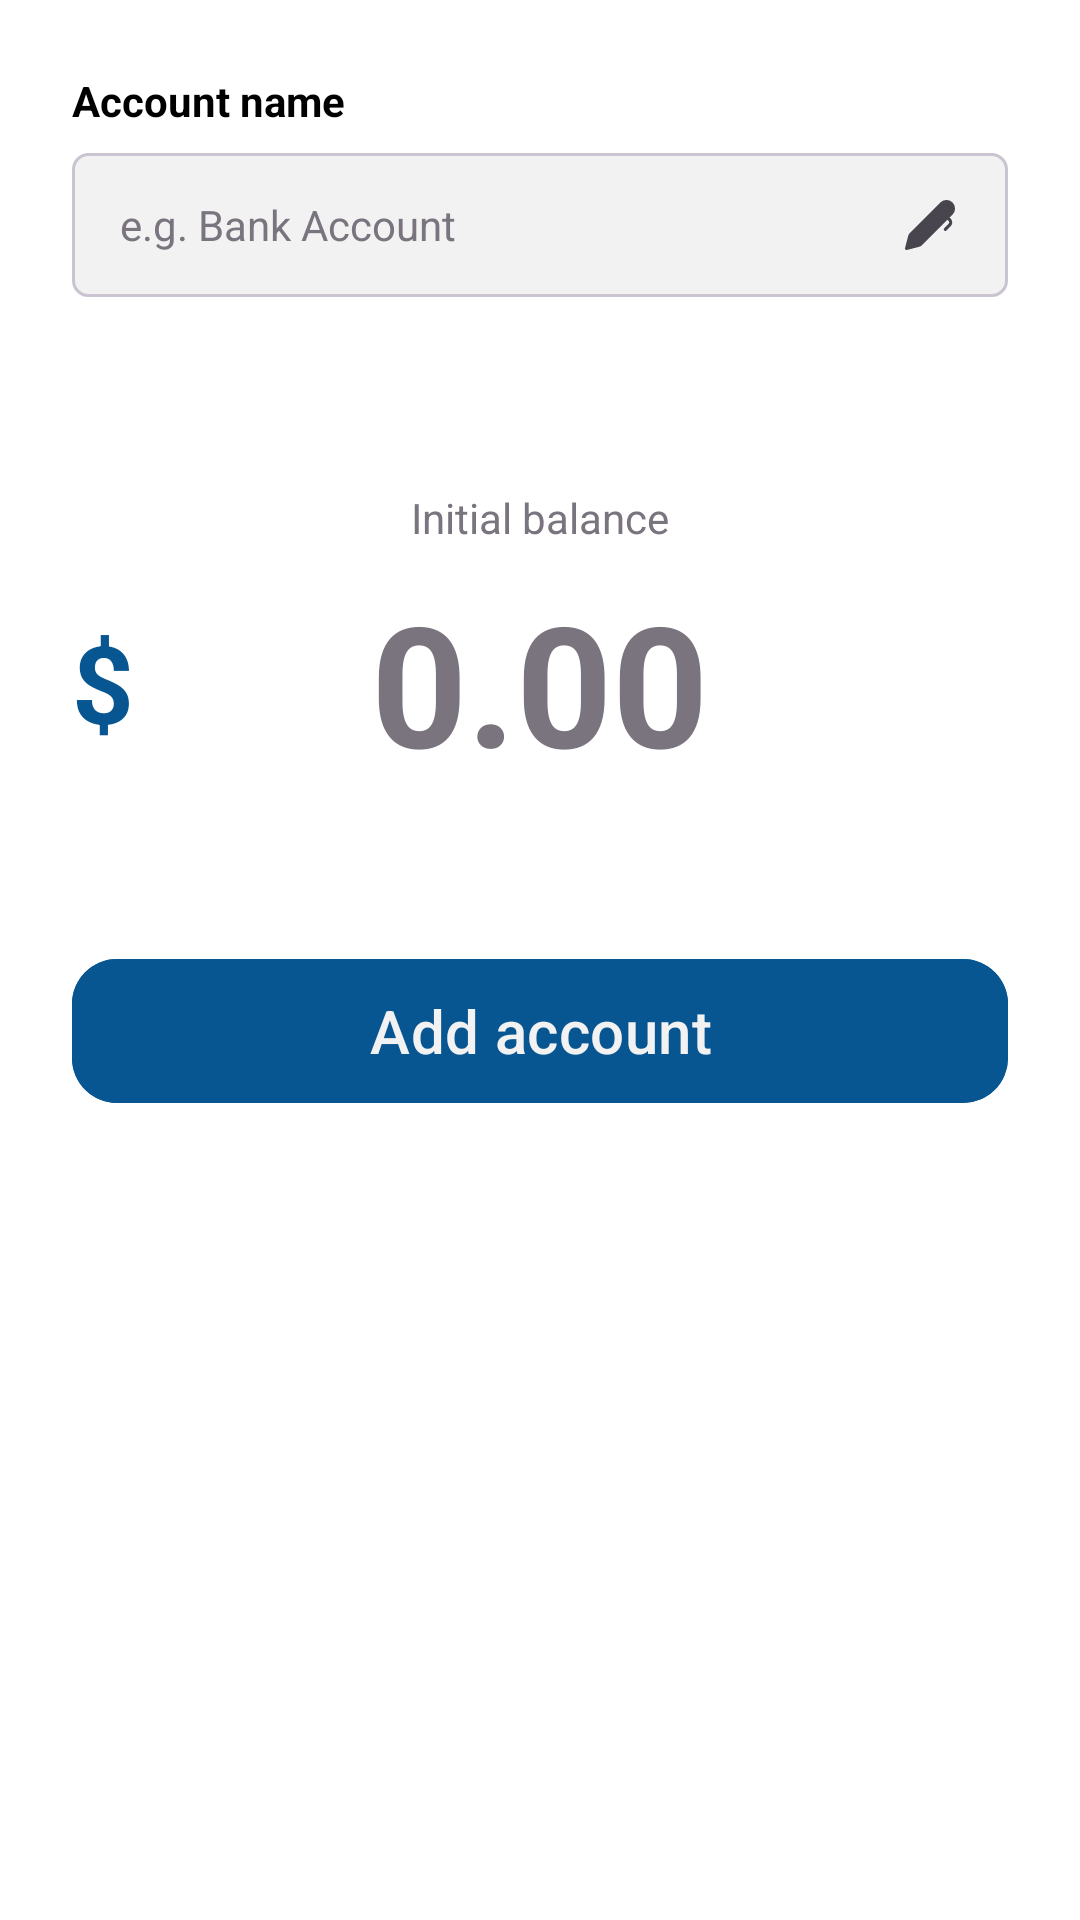

Icons on this 1080 x 1920 Android screen, each with its box as (x1, y1, x2, y2):
pen: (905, 200, 955, 250)
